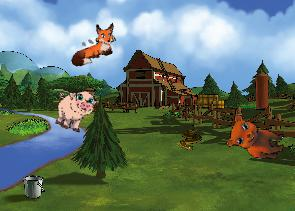bear: (225, 113, 287, 160)
fox: (63, 19, 123, 69)
pig: (50, 84, 99, 136)
